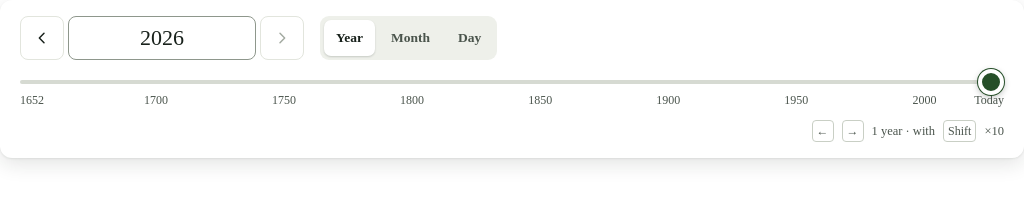
Test: goes to a typed date and takes its precision
Replace the text in the field named "Date shown" with "1901-05". click: (162, 38)
box: [81, 16, 243, 60]
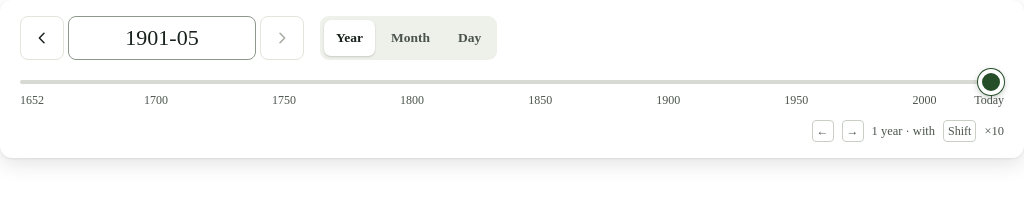
Press Enter in the field named "Date shown", box [81, 16, 243, 60]
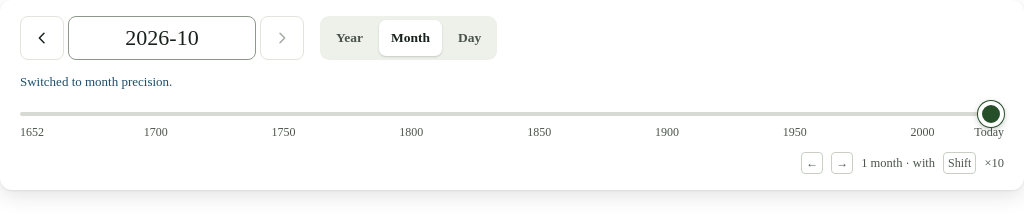
Check: the radio button labelled "Month" is checked, box [379, 20, 442, 56]
